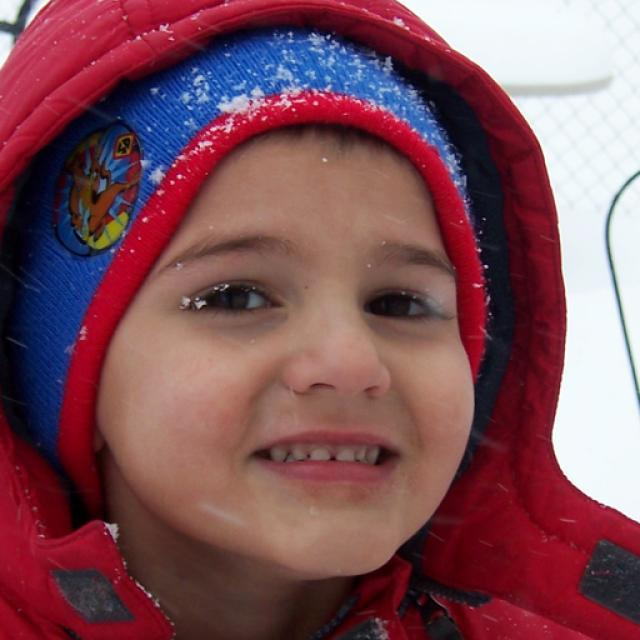happy: (114, 130, 478, 575)
